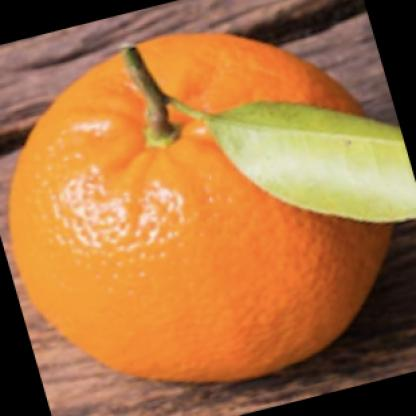fresh: (6, 33, 390, 381)
